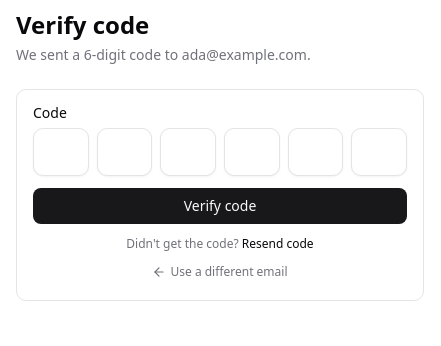
Test: OtpSignInPageClient › clears the code and validation status after resend succeeds
Type "123456" into the field named "Code 1".
click(61, 152); type("123456")  # box top-left (33, 128), bottom-right (89, 176)
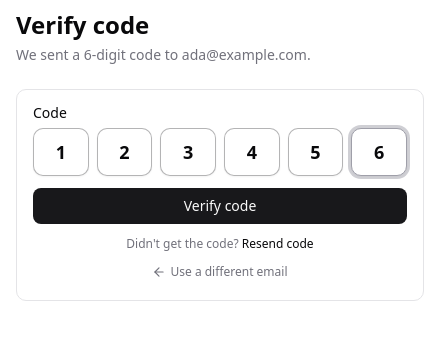
Click the button "Verify code".
click(220, 206)  # box top-left (33, 188), bottom-right (407, 224)
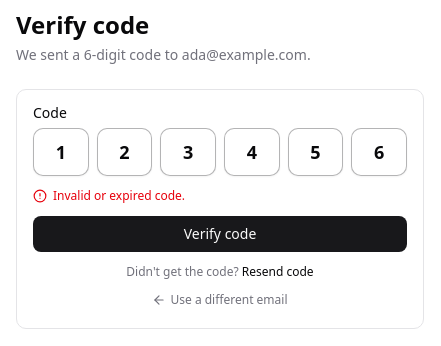
Expected: the text "Invalid or expired code." is shown, top-left (33, 187), bottom-right (185, 204)
Click the button "Resend code".
click(278, 272)  # box top-left (242, 264), bottom-right (314, 280)
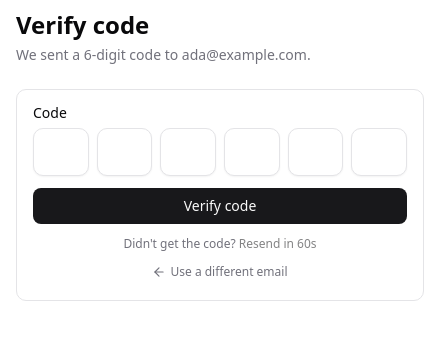
Expected: the text "Invalid or expired code." is gone
Expected: the field named "Code 1" is empty, top-left (33, 128), bottom-right (89, 176)
Expected: the field named "Code 5" is empty, top-left (288, 128), bottom-right (343, 176)
